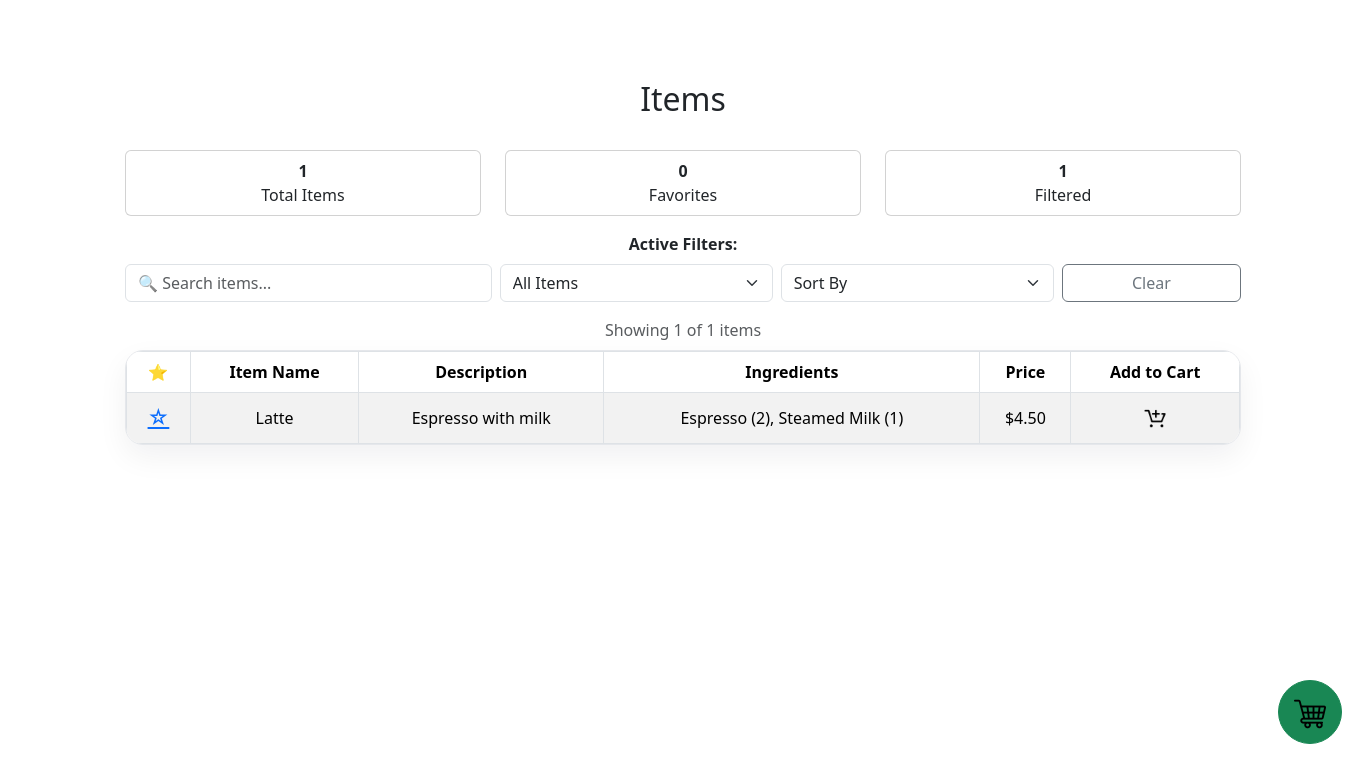
it: ListItemsComponent › shows backend error when placing an order fails
The image size is (1366, 768).
Expected: the text "Latte" is shown, [190, 393, 359, 443]
Click the button named "add latte to cart" at (1155, 418), box [1142, 404, 1168, 432]
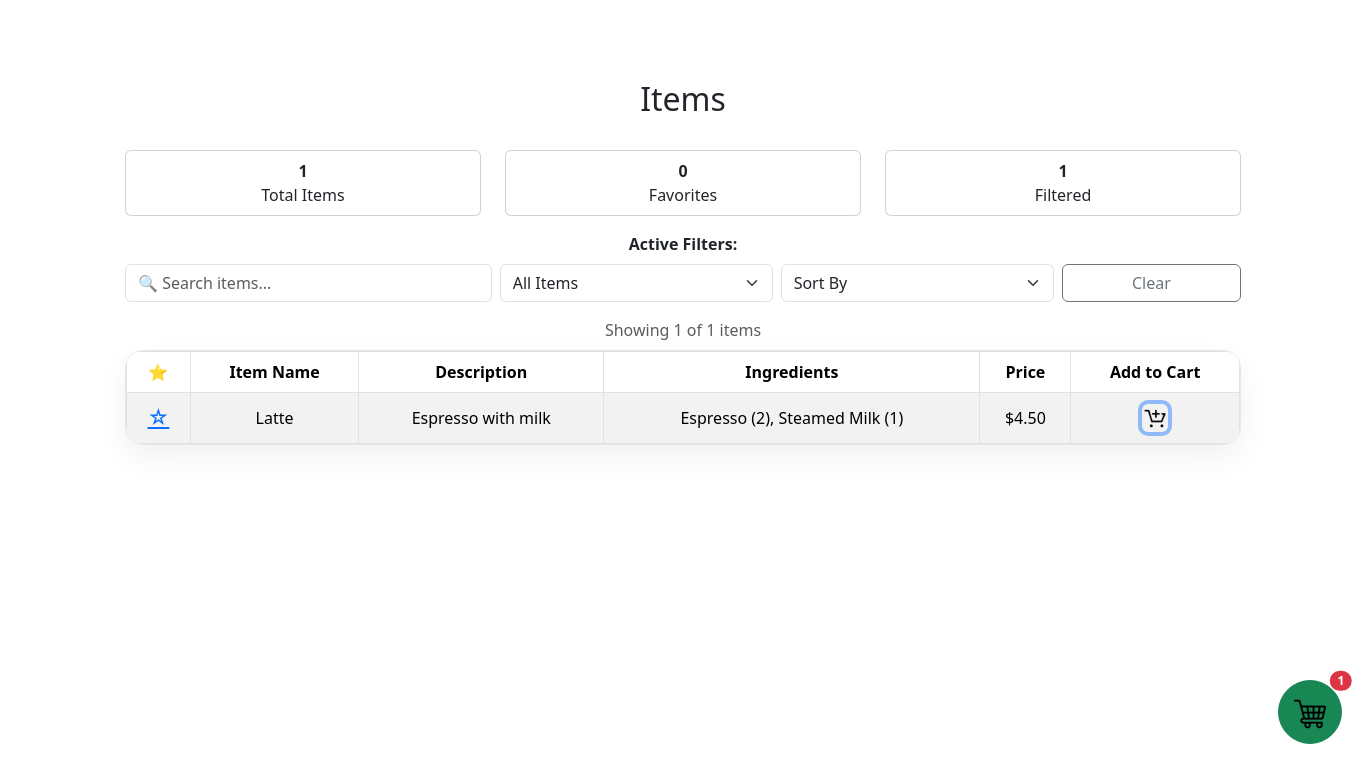
Click the button named "open cart" at (1310, 712), box [1278, 680, 1342, 744]
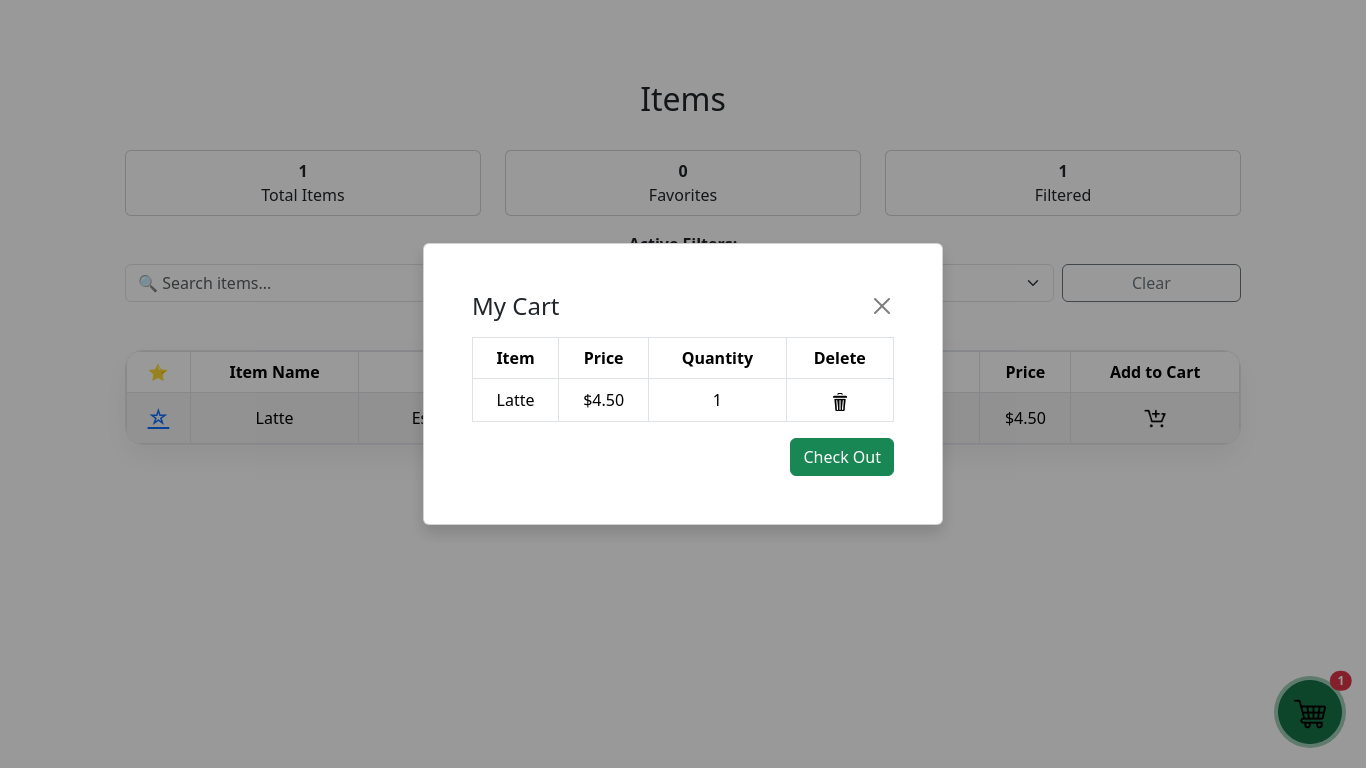
Click the button "Check Out" at (842, 457), box [790, 438, 894, 476]
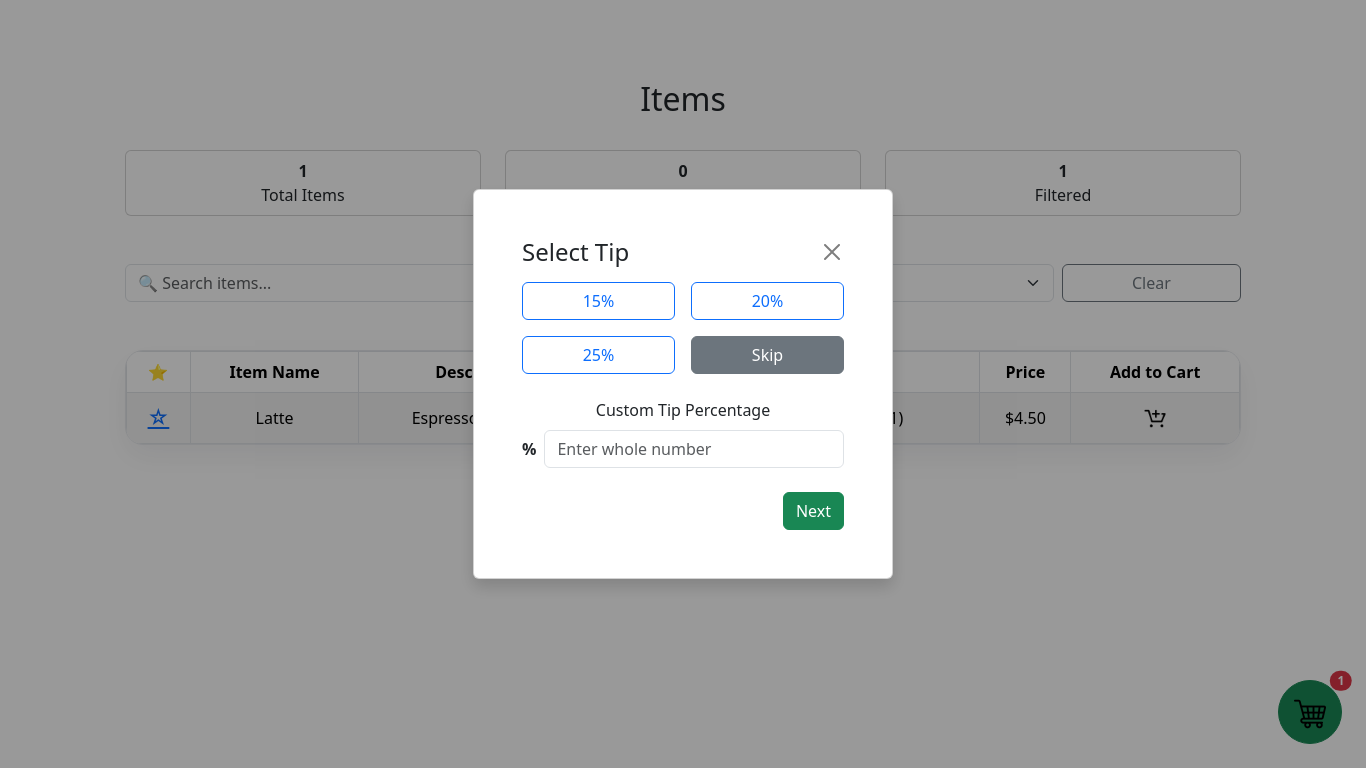
Click the button "Skip" at (768, 355), box [691, 336, 844, 374]
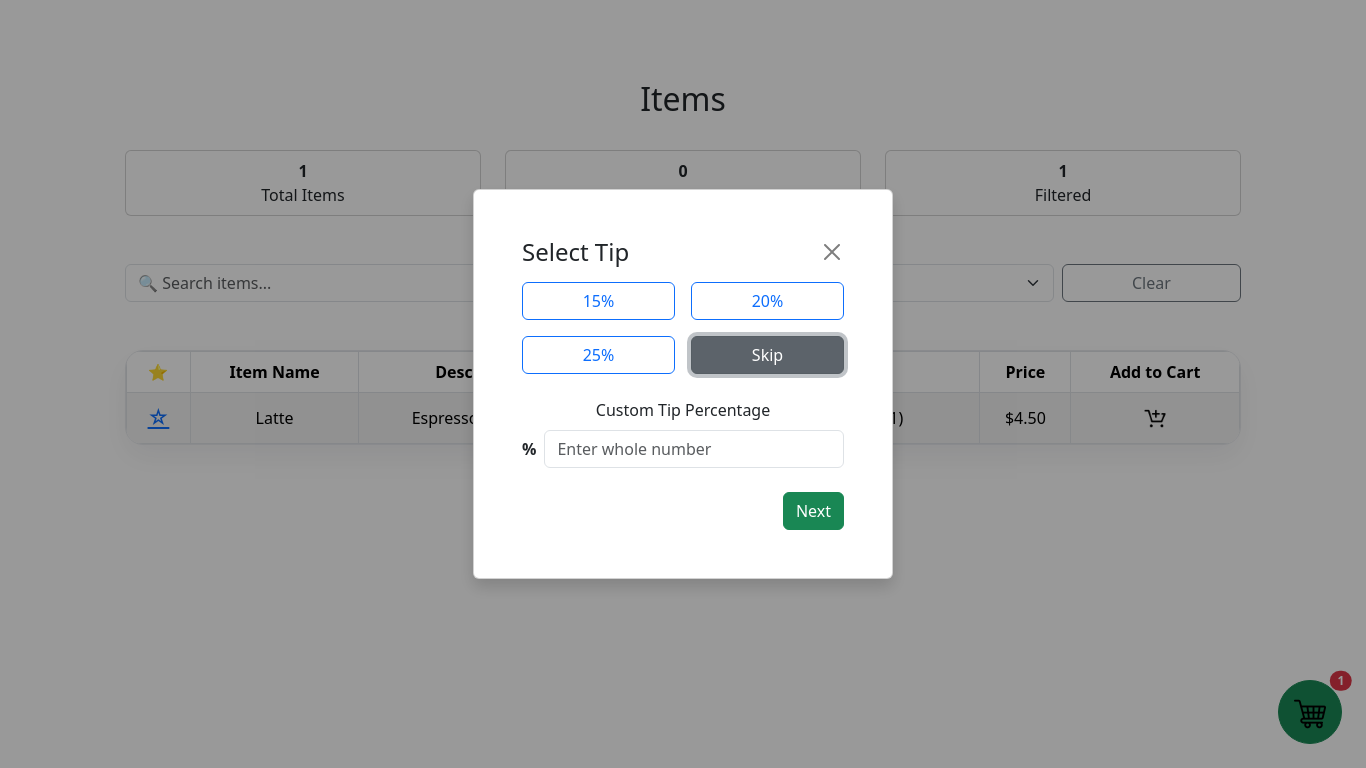
Click the button "Next" at (813, 511), box [783, 492, 844, 530]
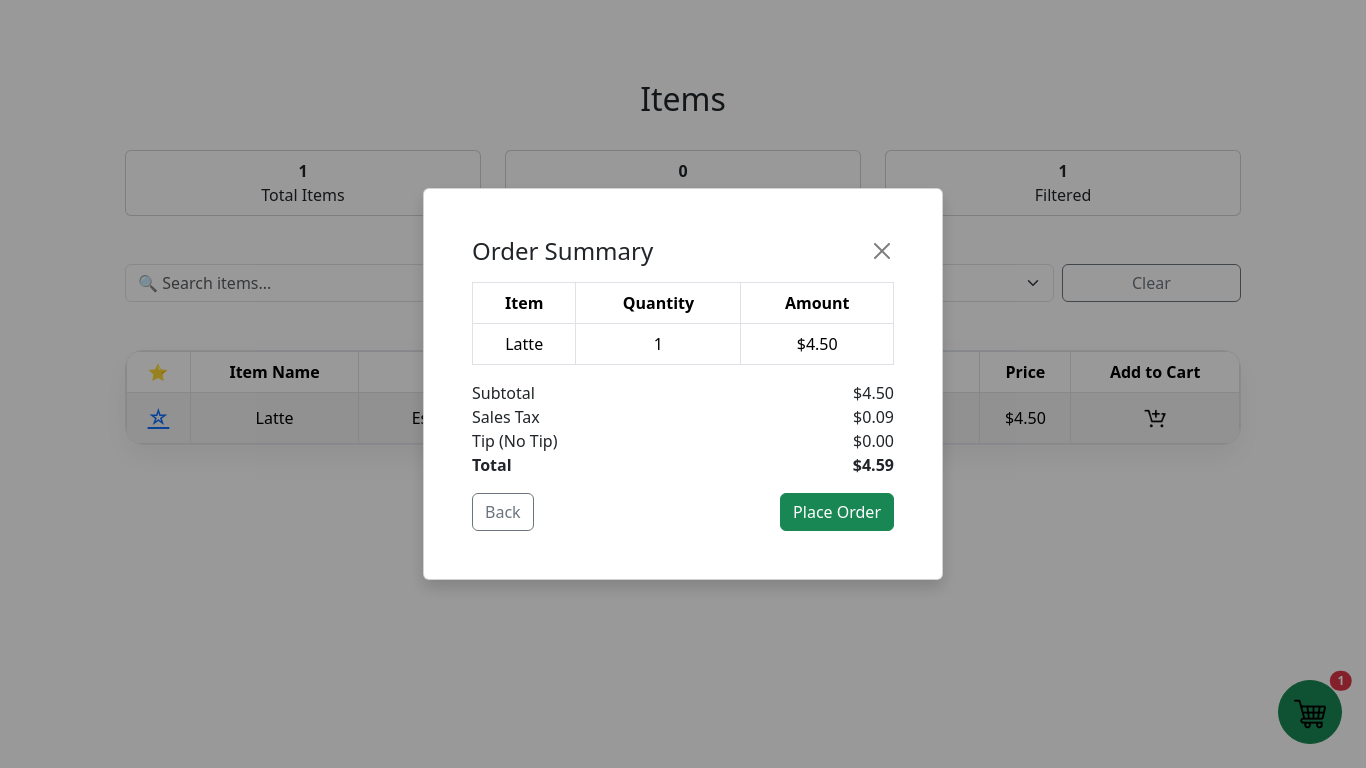
Click the button "Place Order" at (837, 512), box [780, 493, 894, 531]
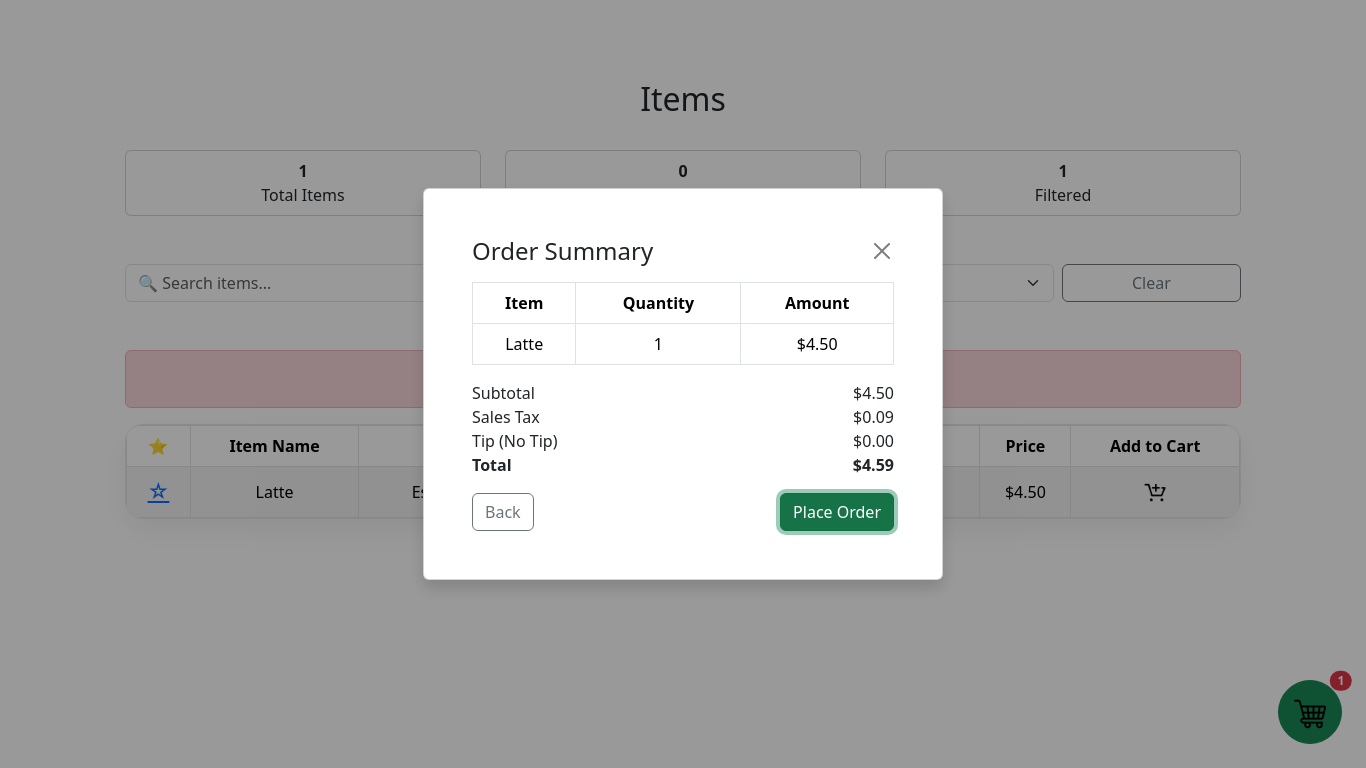
Result: the text "Order must contain at least one item" is shown at [125, 350, 1241, 408]
